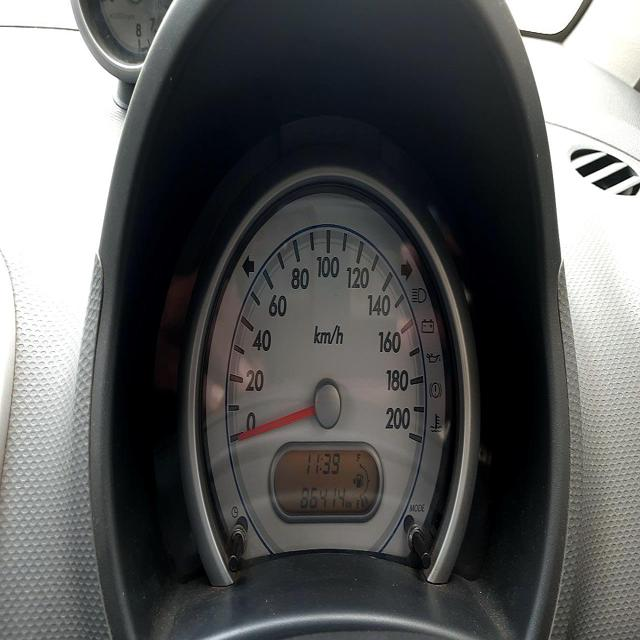odometer: (298, 481, 348, 512)
